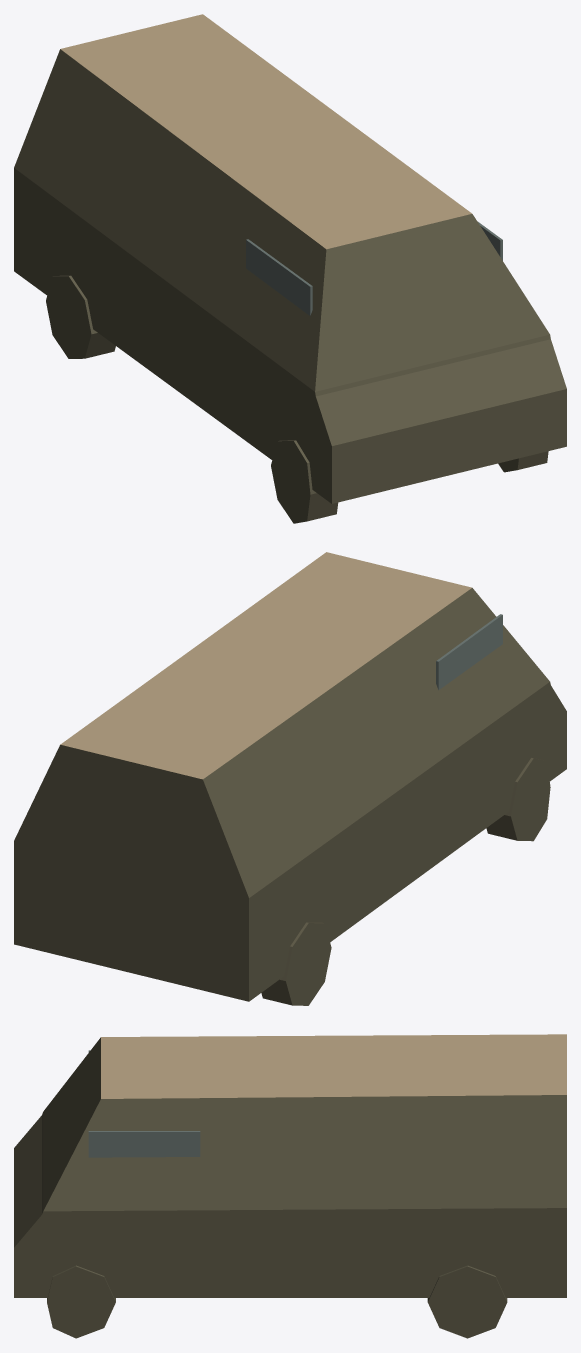
The model's file is SM_CocheCivil_Furgoneta_v3_LOD1.fbx.
The picture shows the model from 3 angles, top to bottom: view 1: azimuth 30°, elevation 25°; view 2: azimuth 150°, elevation 25°; view 3: azimuth 270°, elevation 25°; orthographic projection. The views are drawn at different scales.
Visible parts, largest first — view 1: SM_coche_civil_v13_LOD1; view 2: SM_coche_civil_v13_LOD1; view 3: SM_coche_civil_v13_LOD1.
Part boxes in pixels (bbox=[...]): SM_coche_civil_v13_LOD1: bbox=[14, 14, 566, 523]; SM_coche_civil_v13_LOD1: bbox=[14, 552, 566, 1005]; SM_coche_civil_v13_LOD1: bbox=[14, 1034, 566, 1338].
Bounding box in the file's own units: 1.94 × 1.98 × 4.45.
